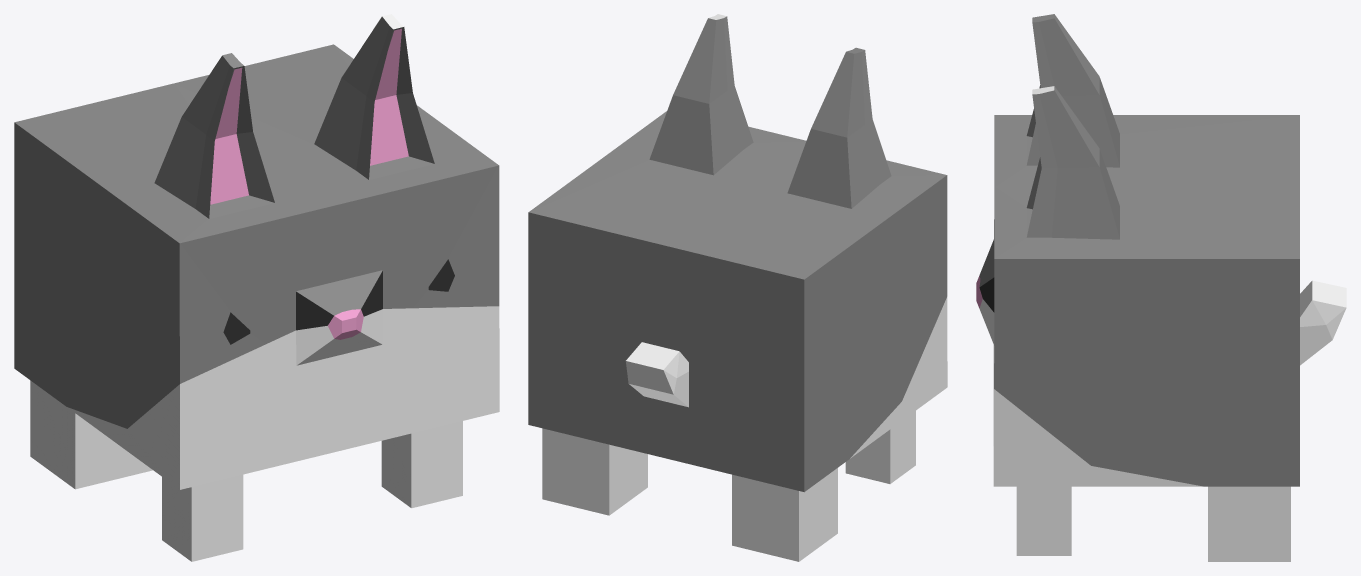
The model's file is Bunny.fbx.
The picture shows the model from 3 angles, left to right: view 1: azimuth 30°, elevation 25°; view 2: azimuth 150°, elevation 25°; view 3: azimuth 270°, elevation 25°; orthographic projection. The views are drawn at different scales.
Parts seen in each view (by area): view 1: Rabbit; view 2: Rabbit; view 3: Rabbit.
Boxes of the visible parts, box(x1,y1,x2,y2) form: Rabbit: box(14, 14, 499, 561); Rabbit: box(528, 14, 947, 561); Rabbit: box(976, 14, 1346, 561).
Bounding box in the file's own units: 140 × 201 × 152.
